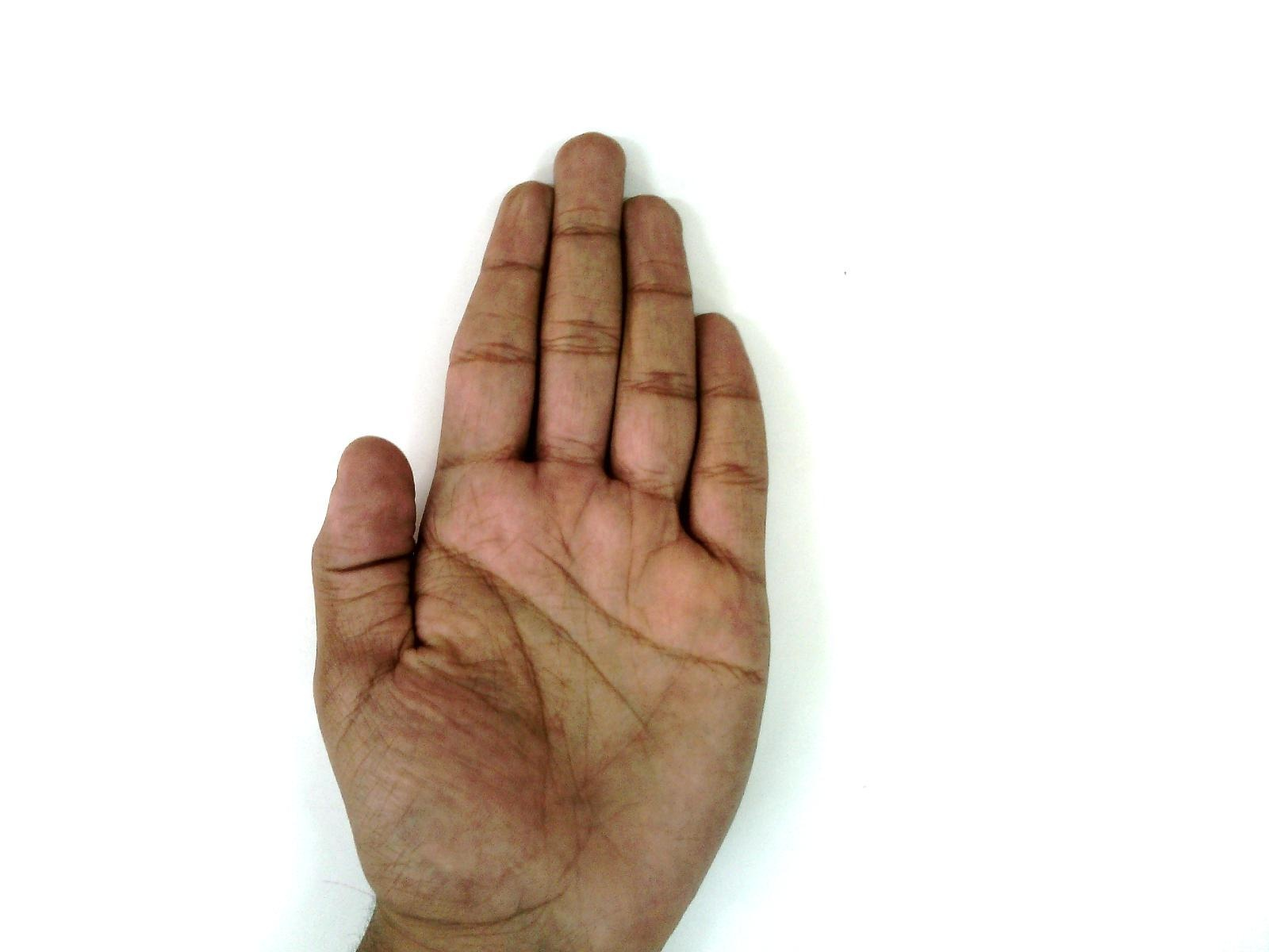open_palm: (308, 131, 776, 951)
